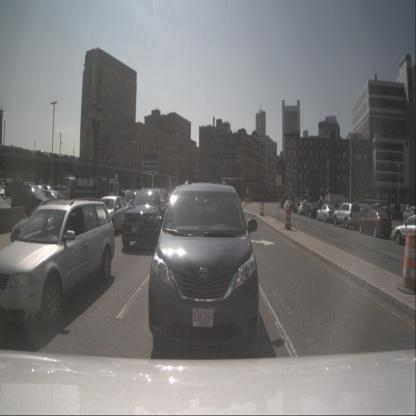barrier: (398, 230, 415, 293), (0, 205, 26, 234), (284, 208, 292, 230), (260, 201, 265, 216)
